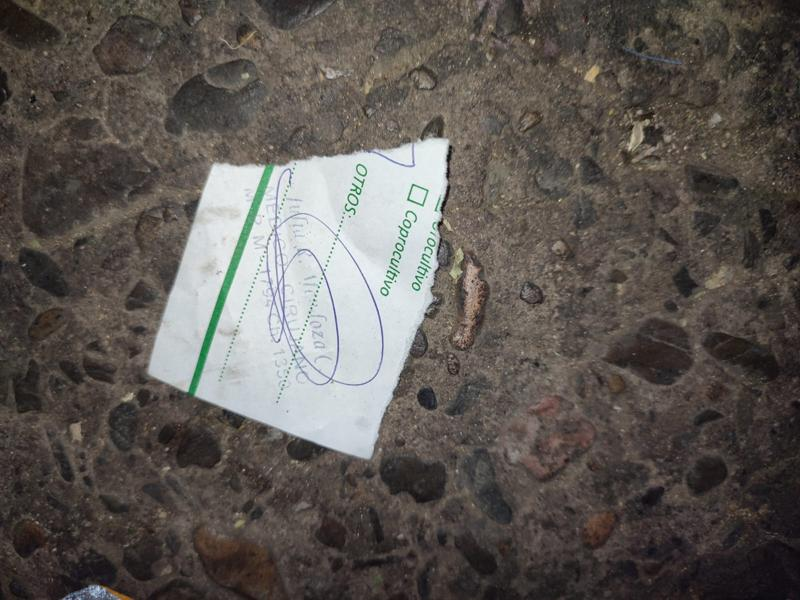papel: (146, 132, 451, 461)
